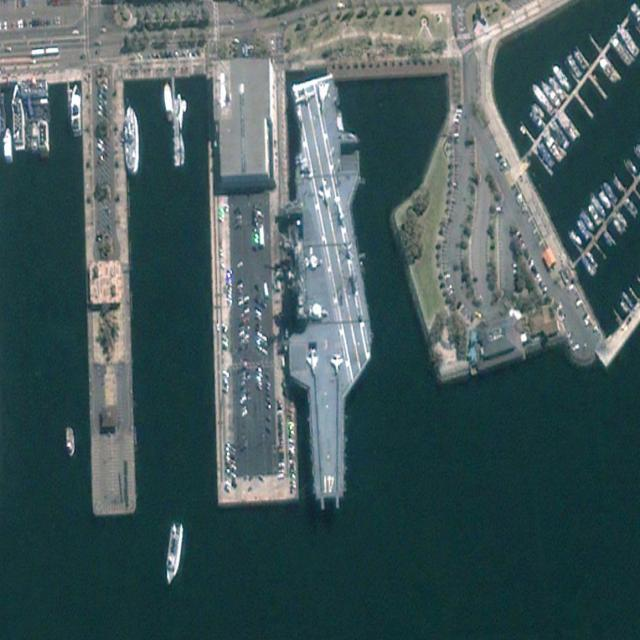Aircraft Carrier: (280, 69, 377, 501)
Other Ship: (164, 518, 185, 585), (125, 105, 141, 174), (13, 84, 25, 149), (73, 86, 82, 134), (4, 127, 11, 162)
